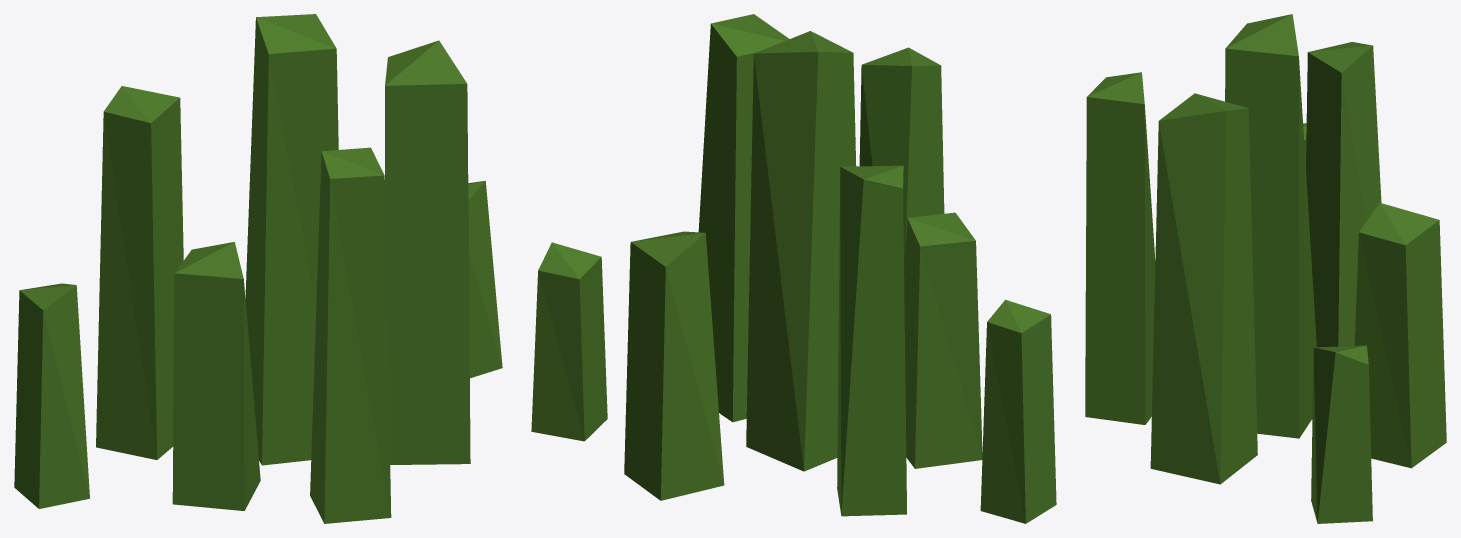
File: Grass_2_Cube.obj
3 renders of one model, left to right at view 1: azimuth 30°, elevation 25°; view 2: azimuth 150°, elevation 25°; view 3: azimuth 270°, elevation 25°, orthographic. The views are drawn at different scales.
Parts seen in each view (by area): view 1: Grass_2_Cube.034; view 2: Grass_2_Cube.034; view 3: Grass_2_Cube.034.
Boxes of the visible parts, bbox=[...] form: Grass_2_Cube.034: bbox=[14, 14, 502, 523]; Grass_2_Cube.034: bbox=[531, 14, 1056, 523]; Grass_2_Cube.034: bbox=[1085, 14, 1446, 523].
Size of the model in its own units: 1.7 by 1.4 by 1.17.
